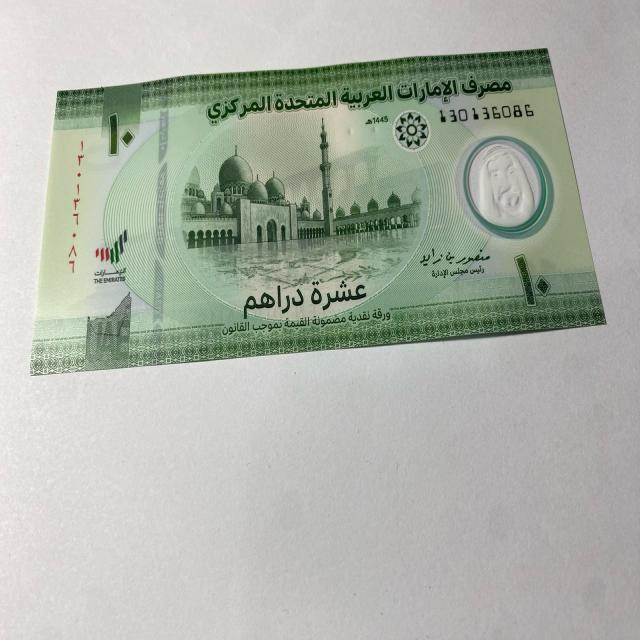10_AED: (32, 42, 612, 380)
